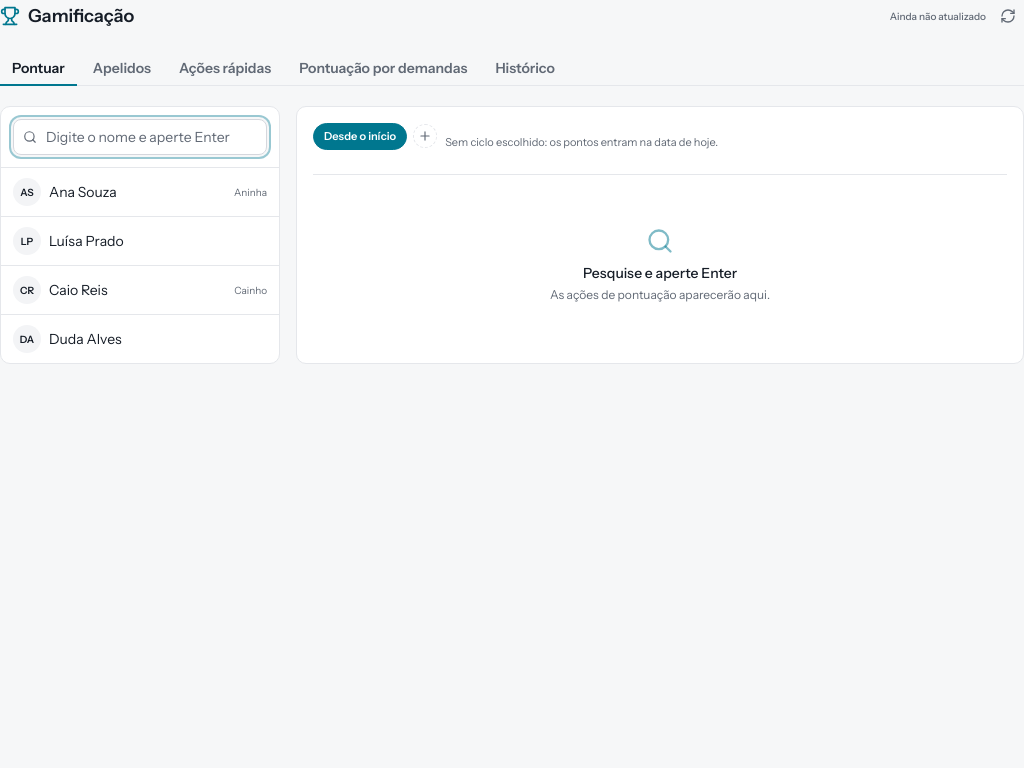
Test: resetar apelidos em massa › filtrar por área reduz a seleção
Click the button "Apelidos": click(122, 69) [81, 52, 163, 86]
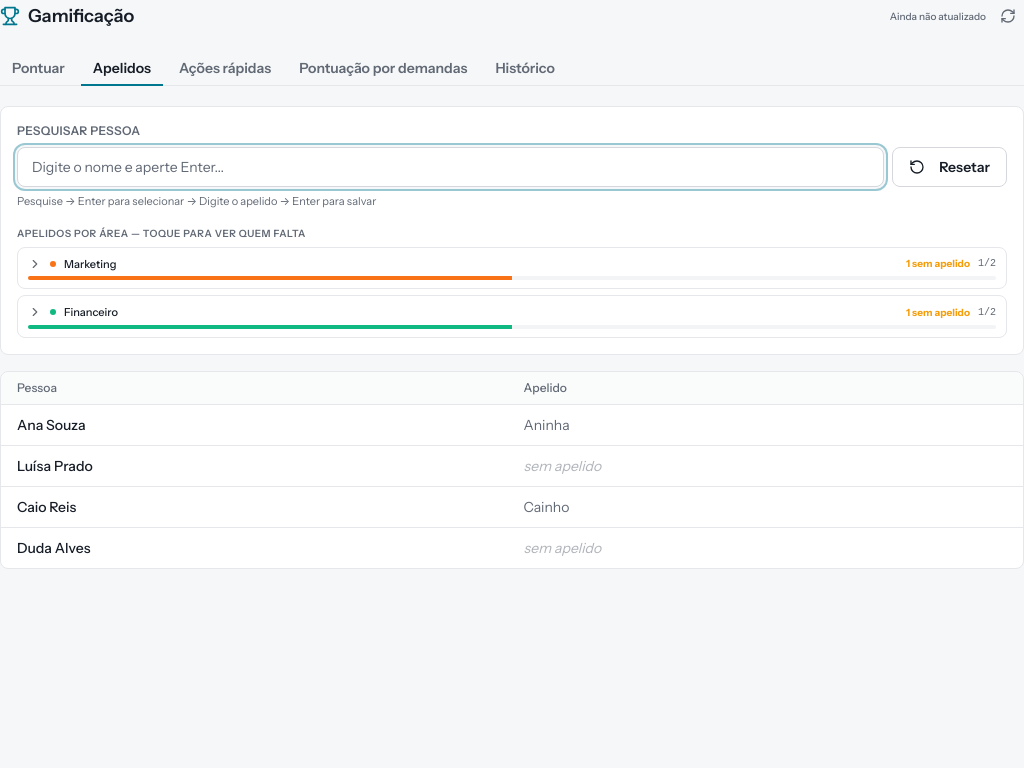
Click the button "Resetar": click(950, 167) [892, 147, 1007, 187]
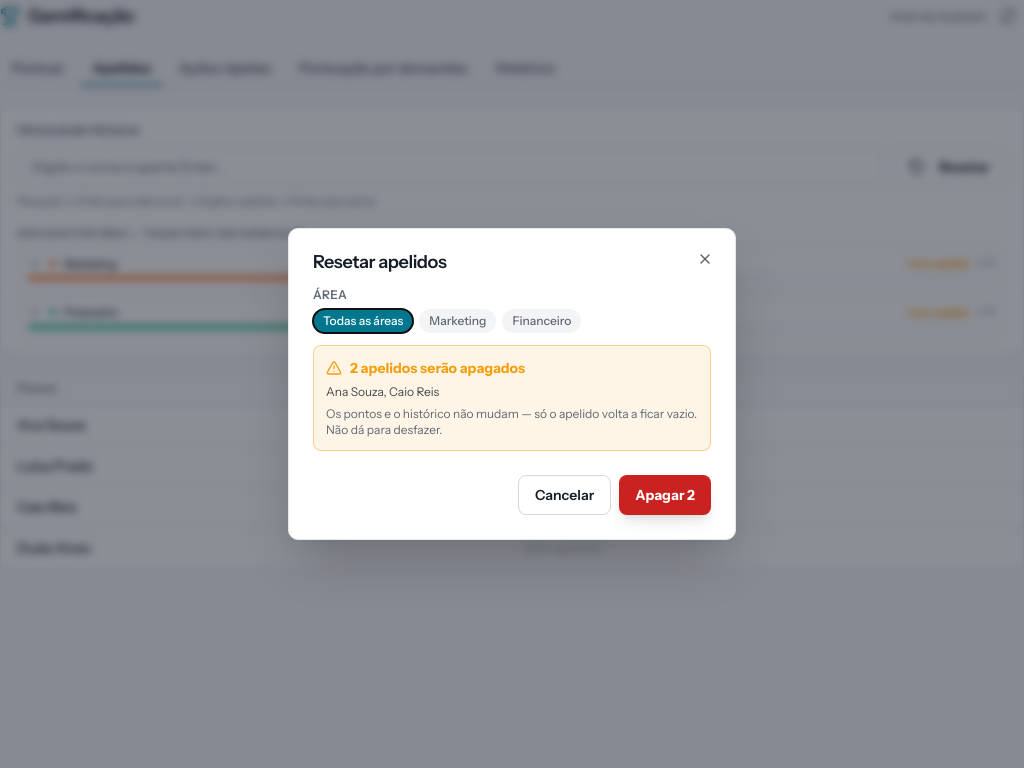
Click the button "Marketing": click(458, 321) [419, 309, 496, 333]
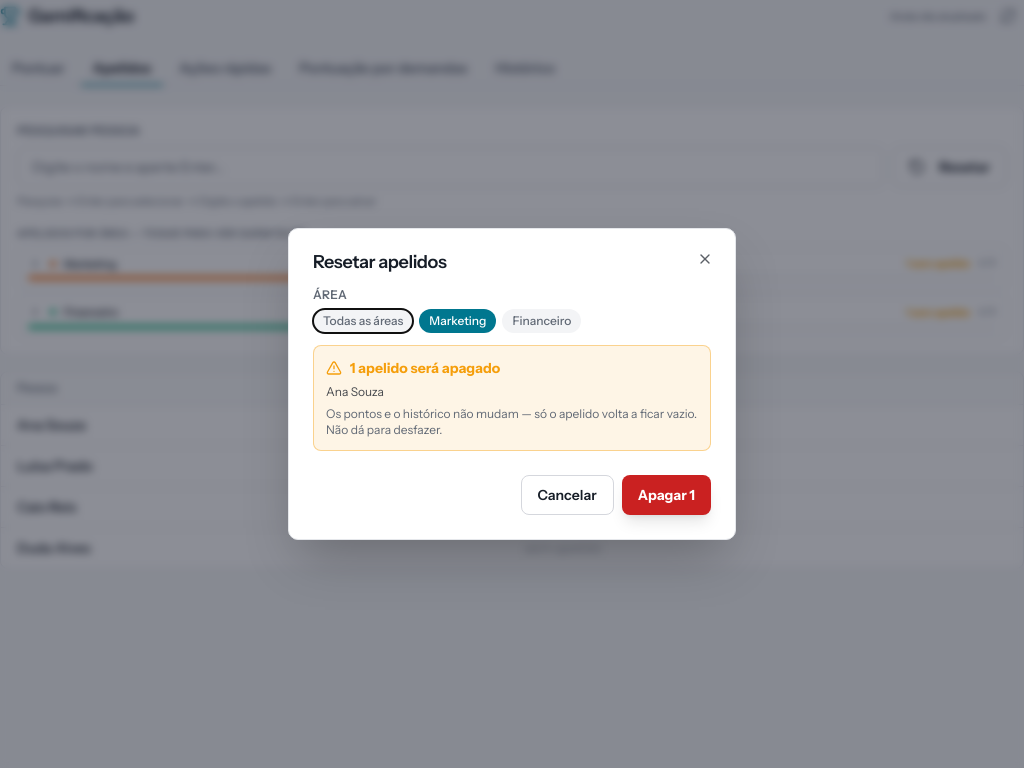
Check: the text "Ana Souza" is shown, box [326, 384, 384, 399]
Check: the text "1 apelido será apagado" is shown, box [326, 359, 500, 377]
